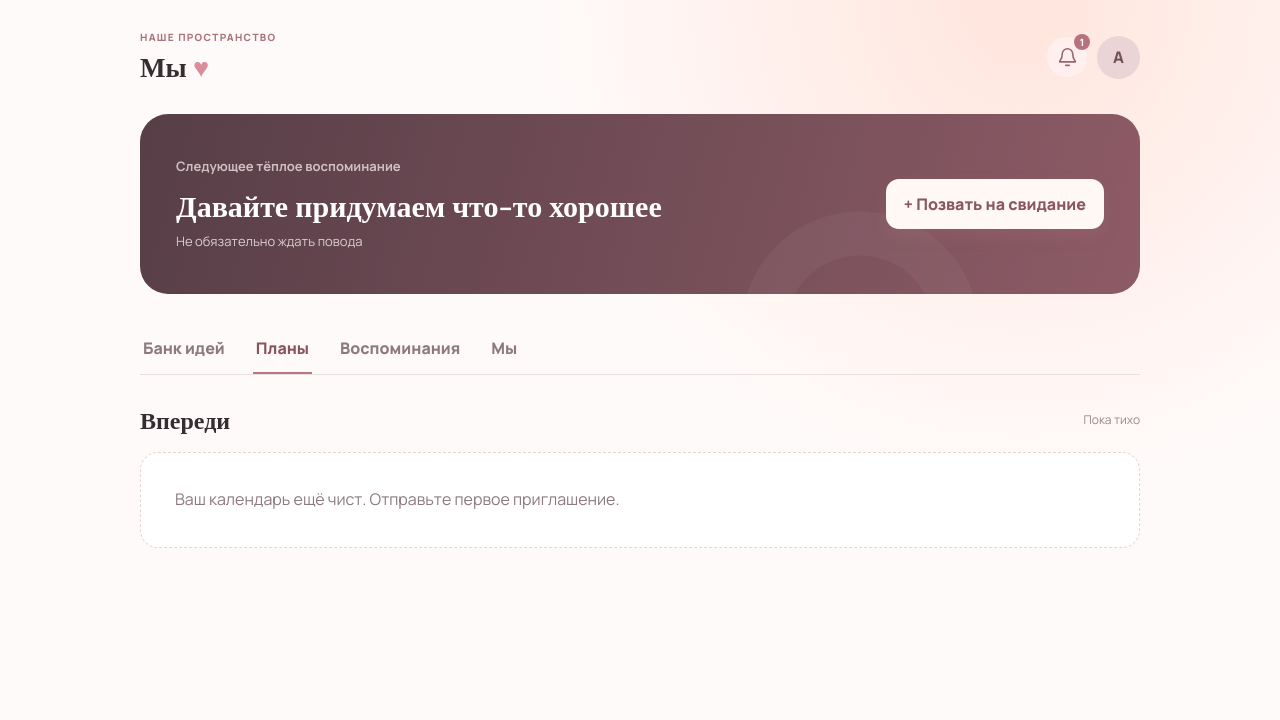
Test case: notifications › closes the notification list after a click outside it
Click the button named "Уведомления". click: (1067, 57)
box: [1047,37,1087,77]
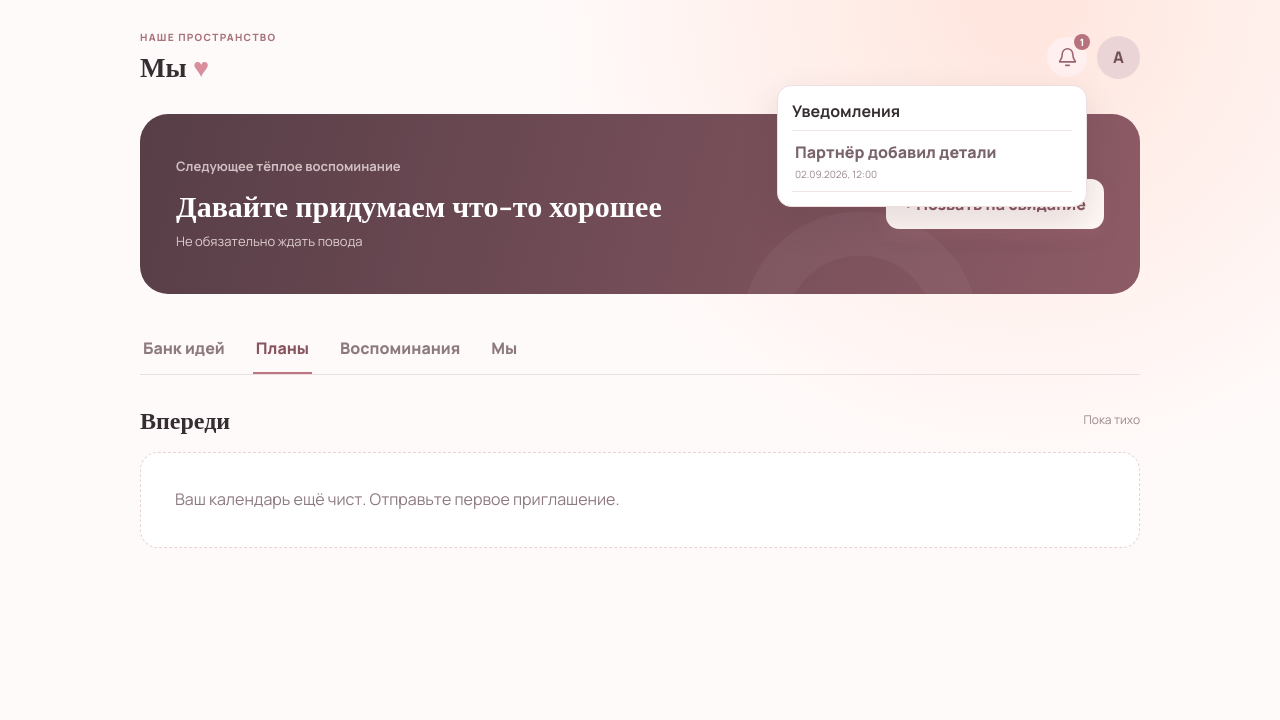
Now the text "Партнёр добавил детали" is shown, box [795,141,996,163]
Press the mouse on the element that starts with "НАШЕ ПРОСТРАНСТВО" at (640, 309), box [0,0,1279,618]
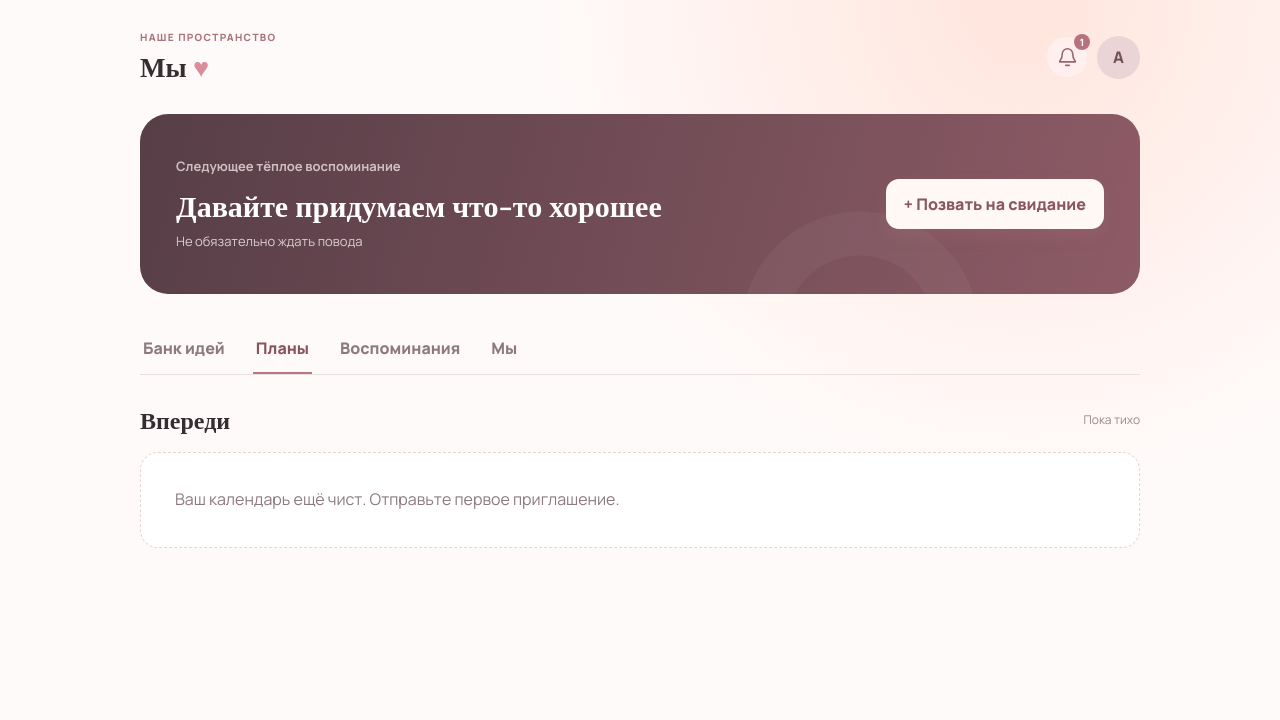
Now the button "Партнёр добавил детали" is gone
